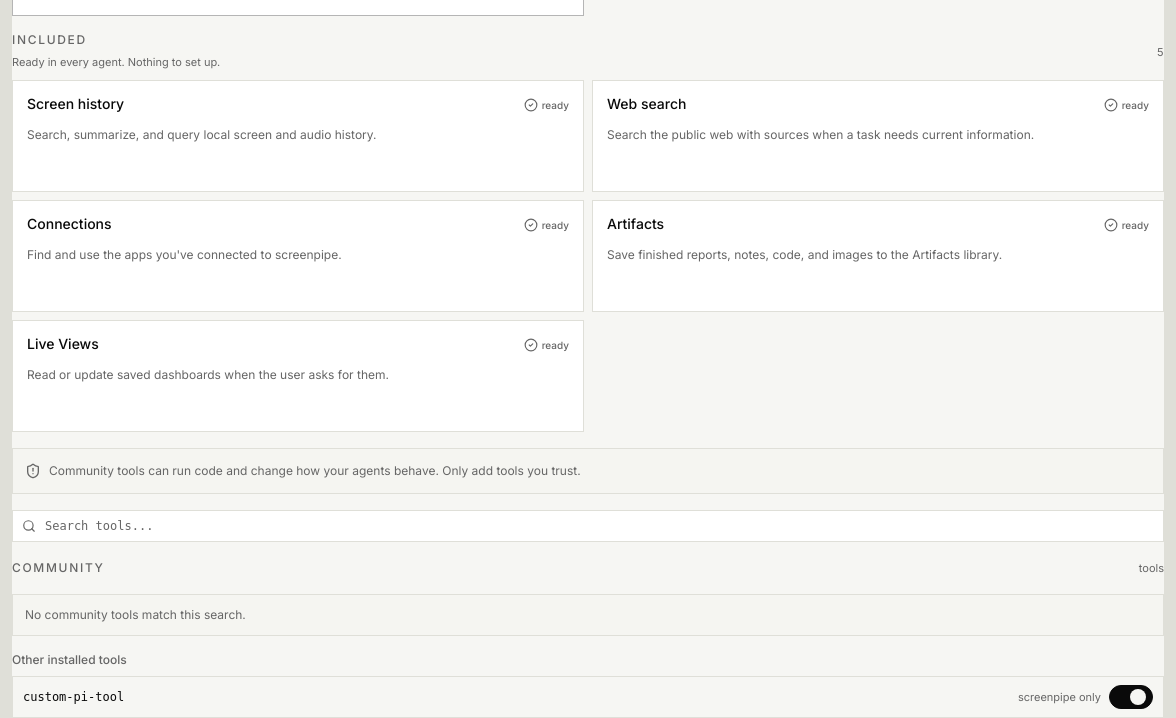
Test: PiExtensionsCard › can remove packages installed outside the curated list
(page scrolled)
Expected: the heading "Other installed tools" is shown, [12,652,127,666]
What coordinates should you click on to do the following:
click the switch named "Disable custom-pi-tool"
I would click on:
 (1131, 696)
Its box is [1109,684,1153,708].
(page scrolled)
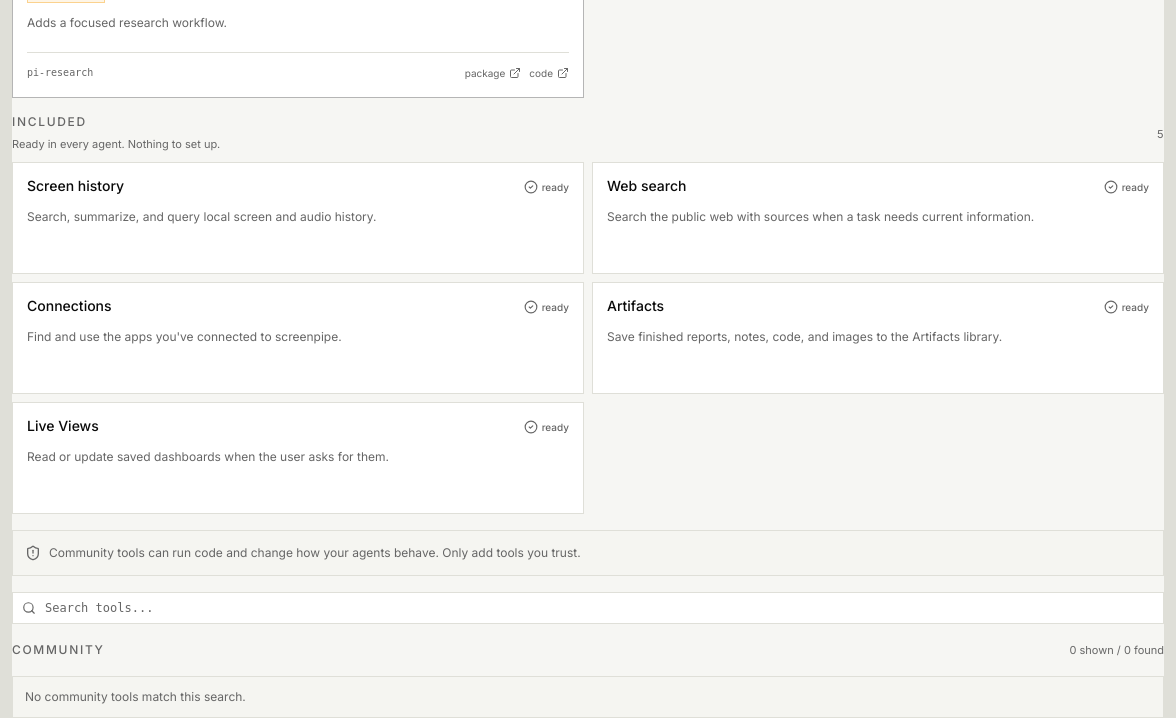
Expected: the text "custom-pi-tool" is gone
